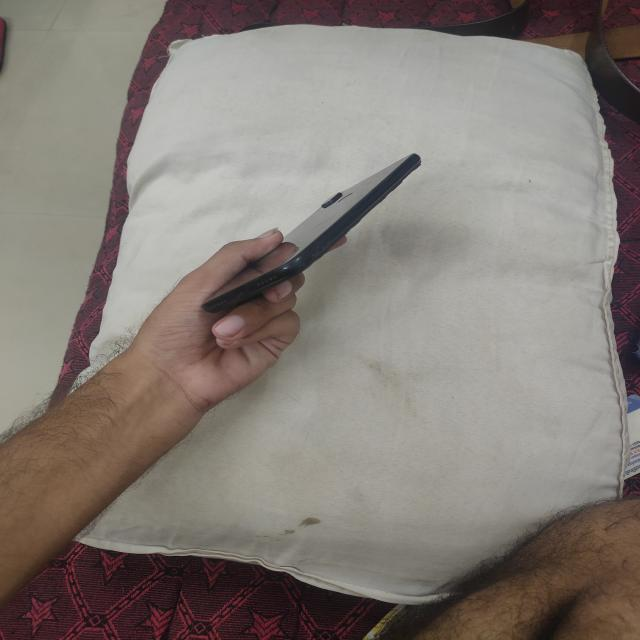Phone: (203, 150, 426, 317)
